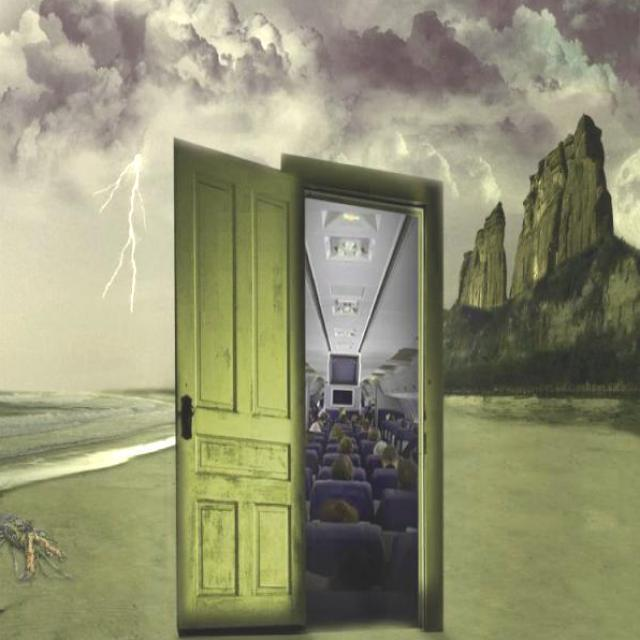door: (173, 137, 307, 634)
